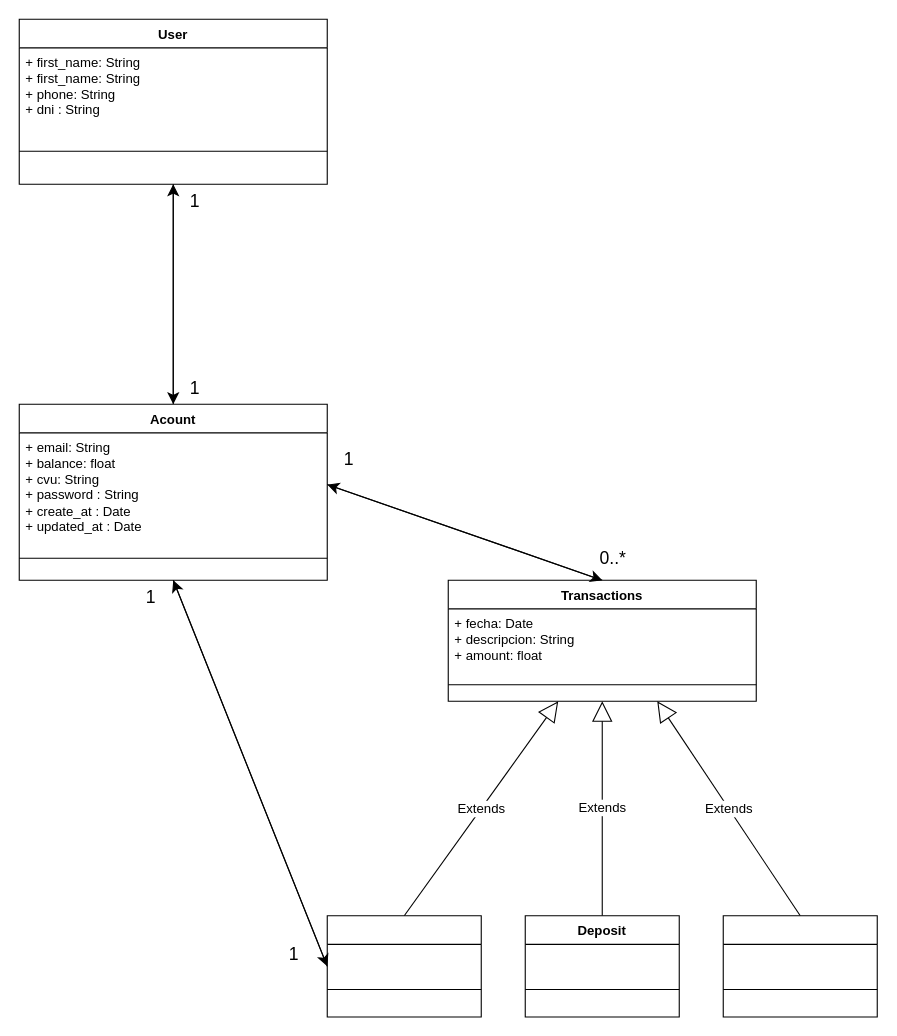
Image size: 897x1036. Some labels were removed from this diagram. Each missing label, with the centre of its shape:
Transfer: (x=403, y=966)
Whitdrawal: (x=799, y=966)
